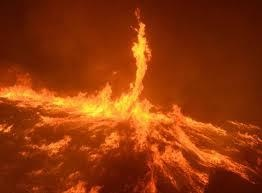fire: (0, 19, 232, 190)
